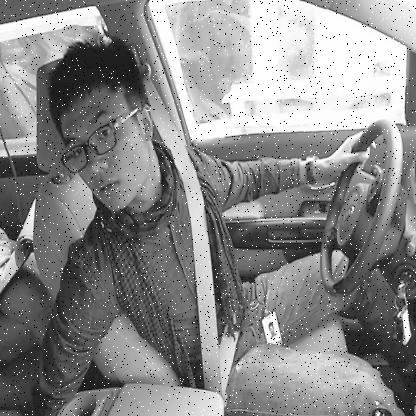seatbelt: (58, 31, 226, 297)
